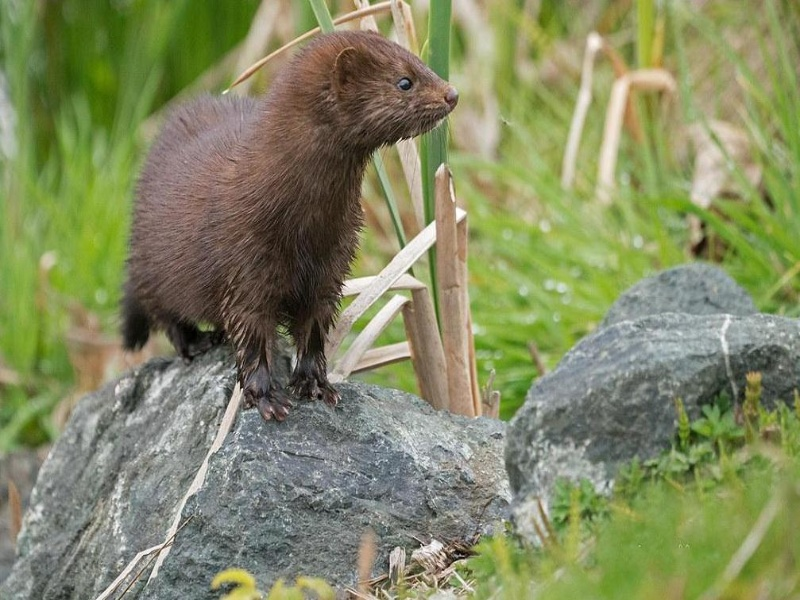minkish: (116, 28, 462, 426)
